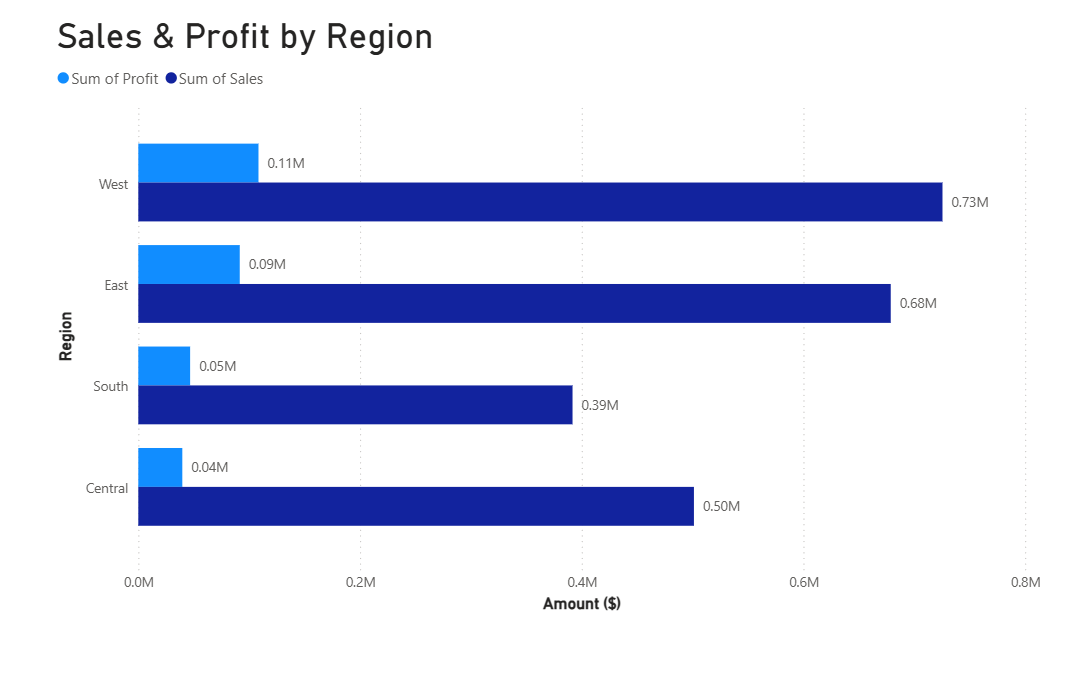

The page's visual inventory and layout, read from the dashboard file:
{"tool":"powerbi","page":{"name":"Sales & Profit by Region","canvas":[1280,720],"ordinal":1},"visuals":[{"type":"clusteredBarChart","title":"Sales & Profit by Region","fields":{"Category":["dataset.Region"],"Y":["Sum(dataset.Profit)","Sum(dataset.Sales)"]},"box":[182.5,83.7,885.1,535.2],"z":0}]}

Visuals, with their boxes on the page's 1280x720 design canvas (x1, y1, x2, y2). These are canvas units, not pixel positions in the 1088x677 screenshot, which may show the page scaled, cropped or inside an application window:
"Sales & Profit by Region" clusteredBarChart: detection(182, 84, 1068, 619)
